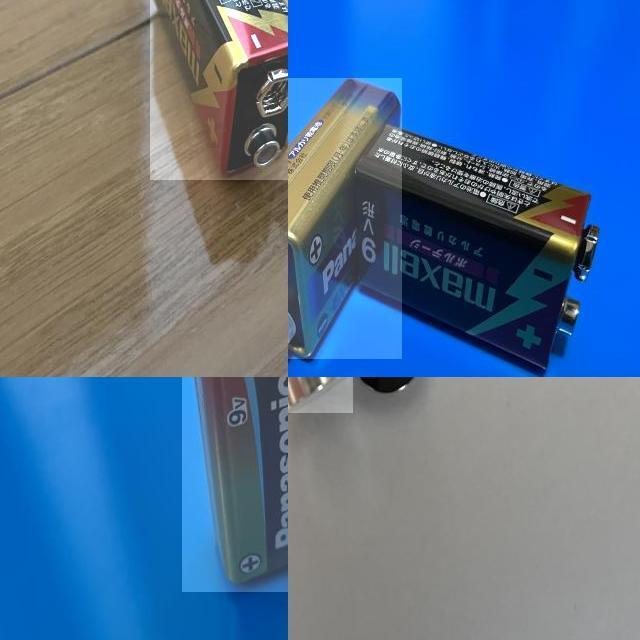9V: (353, 122, 600, 375), (288, 78, 402, 359), (149, 0, 288, 180), (182, 377, 288, 592)
